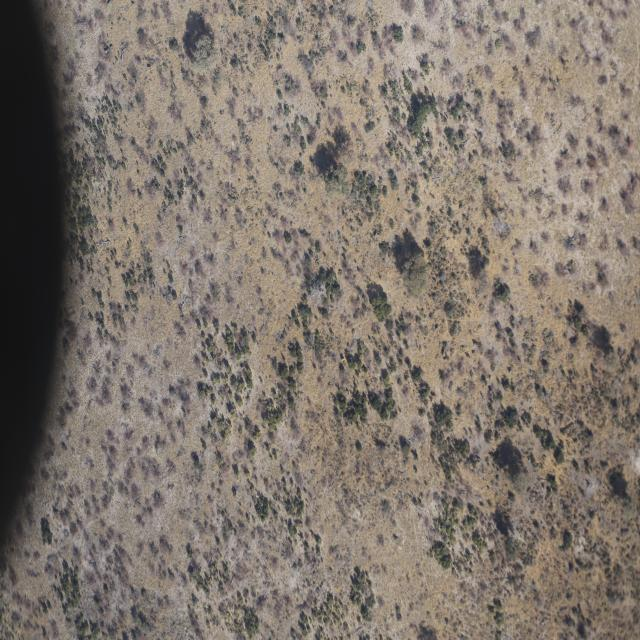elephant: (110, 359, 117, 370), (472, 340, 480, 347), (441, 348, 447, 357), (368, 337, 374, 345), (430, 393, 438, 398), (490, 388, 494, 398), (466, 352, 471, 360), (508, 368, 514, 374), (471, 350, 477, 356), (106, 0, 111, 7), (130, 105, 134, 113), (104, 48, 109, 54), (109, 44, 114, 50), (146, 65, 152, 70), (434, 326, 440, 331), (130, 2, 136, 6), (135, 79, 138, 85), (443, 358, 448, 361)
